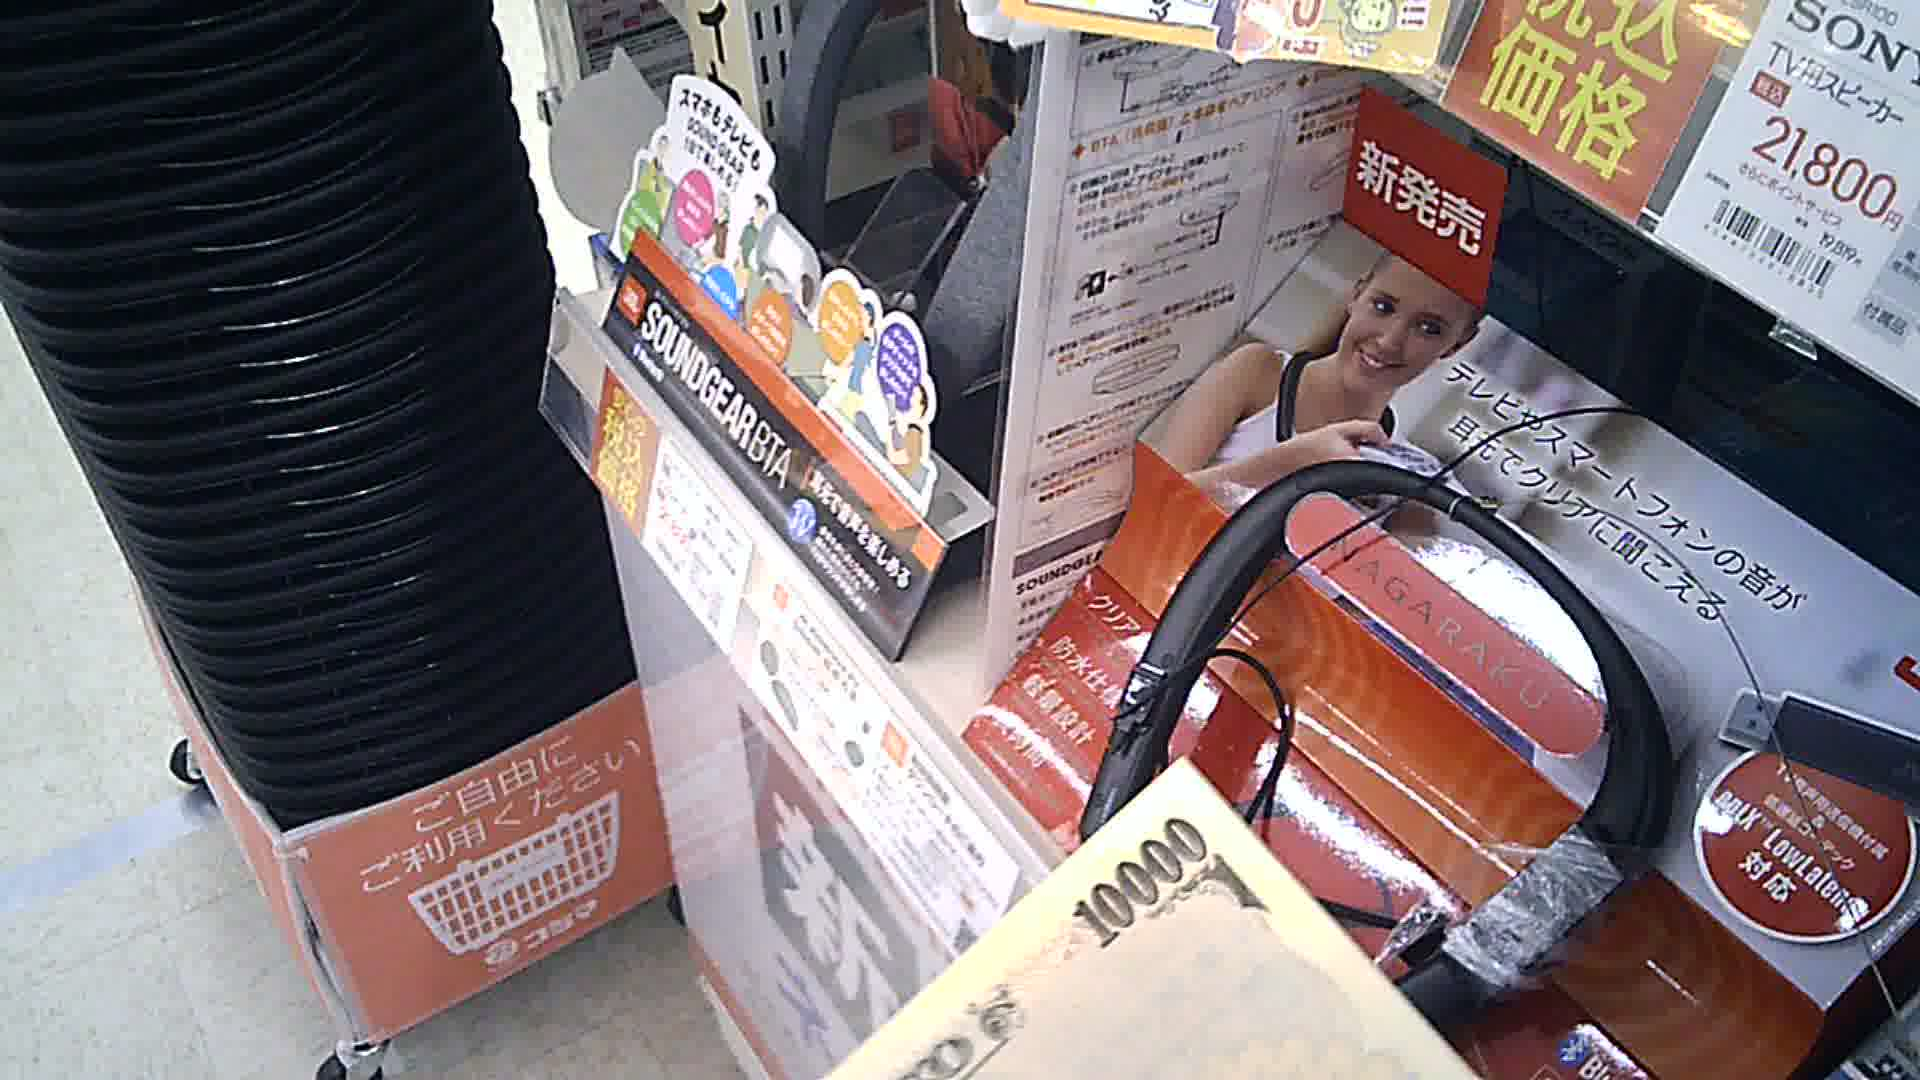10,000 Yen: (793, 746, 1505, 1069)
